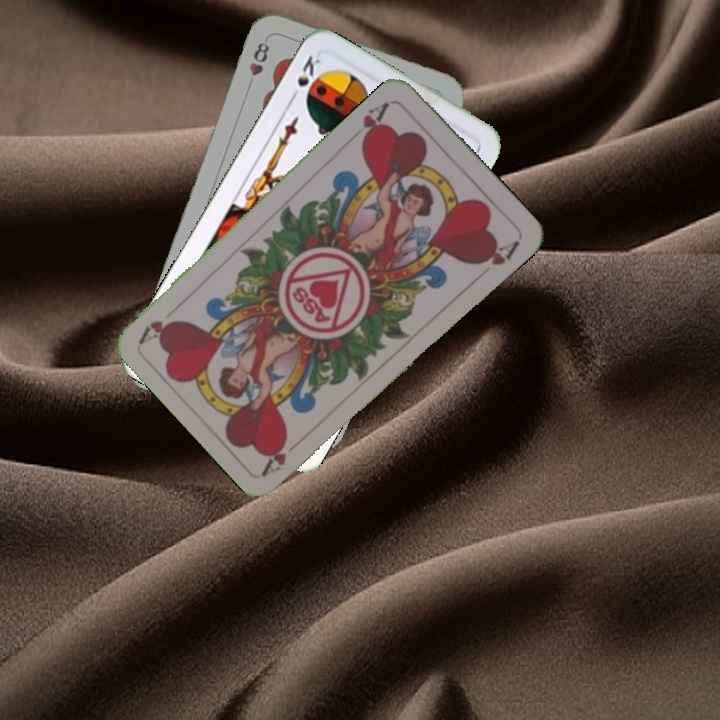H8: (243, 38, 272, 92)
HA: (259, 432, 308, 478), (356, 96, 392, 149)
SK: (285, 51, 323, 105)
